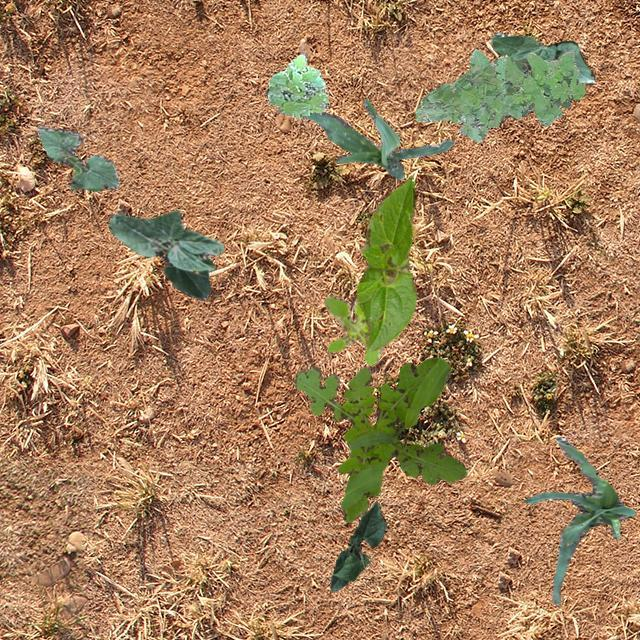crop: (524, 436, 634, 604), (276, 98, 452, 178), (356, 178, 416, 350), (109, 210, 222, 300), (36, 124, 119, 190), (489, 32, 594, 84), (330, 500, 386, 590)
weed: (292, 356, 466, 522), (414, 48, 584, 140), (323, 292, 381, 364), (266, 54, 328, 118), (510, 59, 570, 115)
